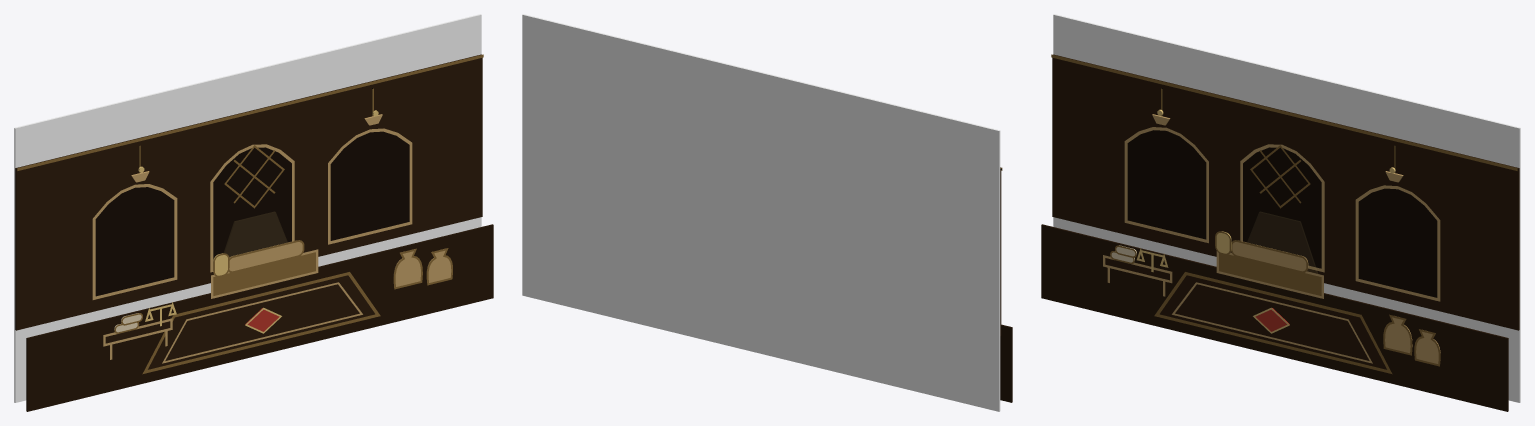
File: loc-divan-namestnika.glb
The picture shows the model from 3 angles, left to right: view 1: azimuth 30°, elevation 25°; view 2: azimuth 150°, elevation 25°; view 3: azimuth 330°, elevation 25°; orthographic projection. The views are drawn at different scales.
Visible parts, largest first — view 1: loc-divan-namestnika; view 2: loc-divan-namestnika; view 3: loc-divan-namestnika.
Part boxes in pixels (bbox=[...]): loc-divan-namestnika: bbox=[14, 14, 493, 411]; loc-divan-namestnika: bbox=[522, 14, 1012, 411]; loc-divan-namestnika: bbox=[1041, 14, 1520, 411].
Size of the model in its own units: 5.33 by 3 by 0.521.
